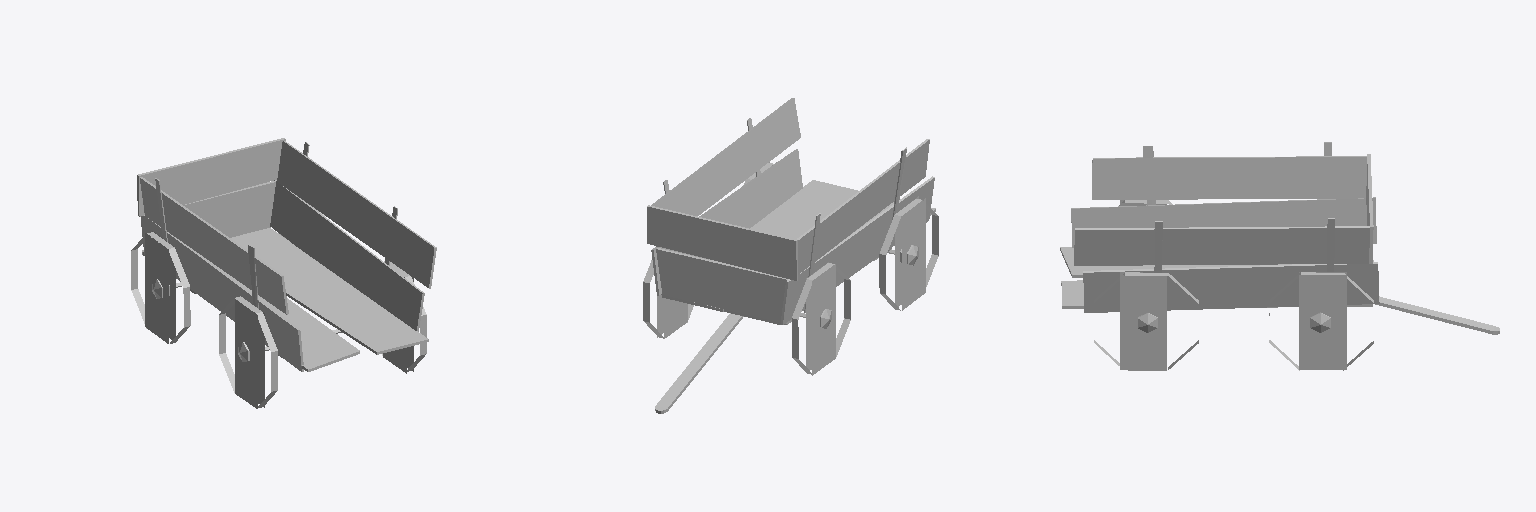
The model's file is cart.obj.
3 views of the same model, side by side, from view 1: azimuth 30°, elevation 25°; view 2: azimuth 150°, elevation 25°; view 3: azimuth 270°, elevation 25° (orthographic).
Parts seen in each view (by area): view 1: karren.bmp, rad.bmp; view 2: karren.bmp, rad.bmp; view 3: karren.bmp, rad.bmp.
Boxes of the visible parts, x1=… form: karren.bmp: x1=131, y1=138, x2=436, y2=407; rad.bmp: x1=145, y1=231, x2=413, y2=408; karren.bmp: x1=643, y1=98, x2=938, y2=413; rad.bmp: x1=657, y1=162, x2=925, y2=375; karren.bmp: x1=1060, y1=142, x2=1499, y2=370; rad.bmp: x1=1120, y1=200, x2=1346, y2=370.
Size of the model in its own units: 11.43 by 10.27 by 26.49.